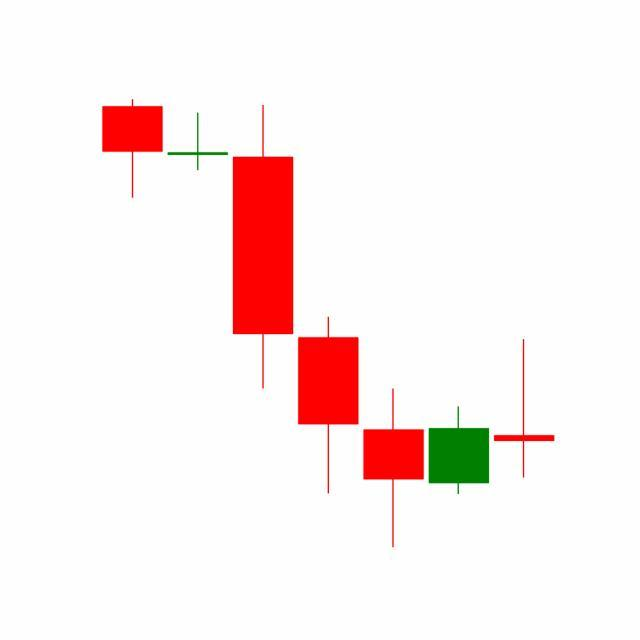Hikkake Pattern: (229, 101, 555, 549)
